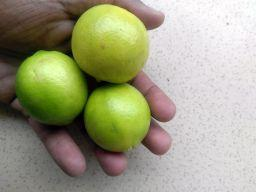lemon: (70, 1, 151, 86), (13, 47, 91, 127), (81, 80, 153, 155)
